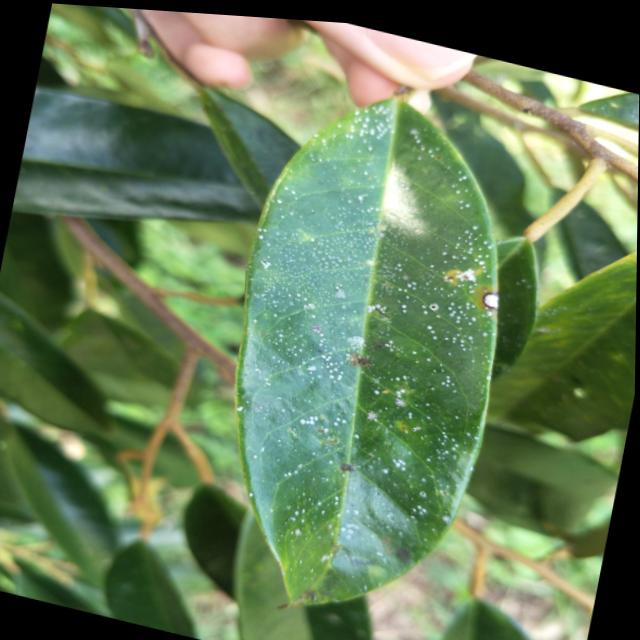Leaf Spot: (206, 125, 511, 534)
